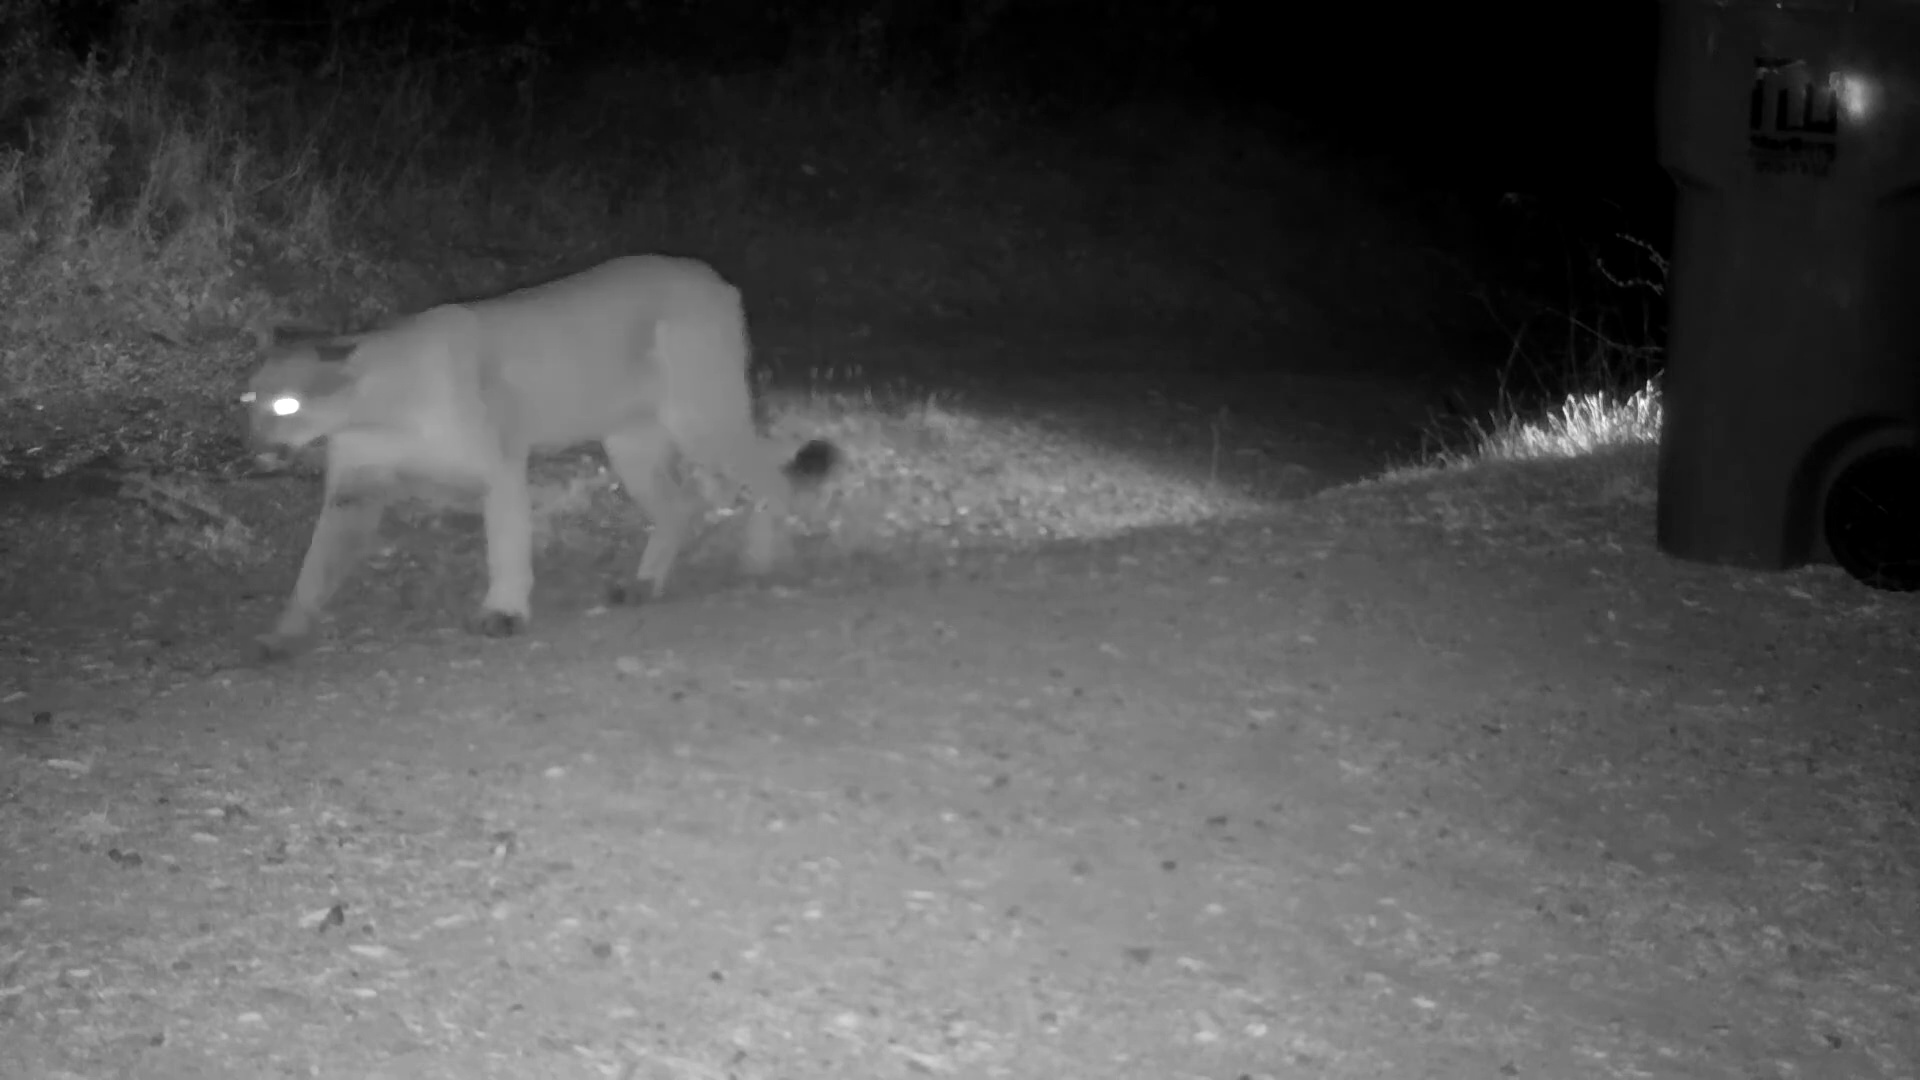Lion: (237, 251, 843, 638)
